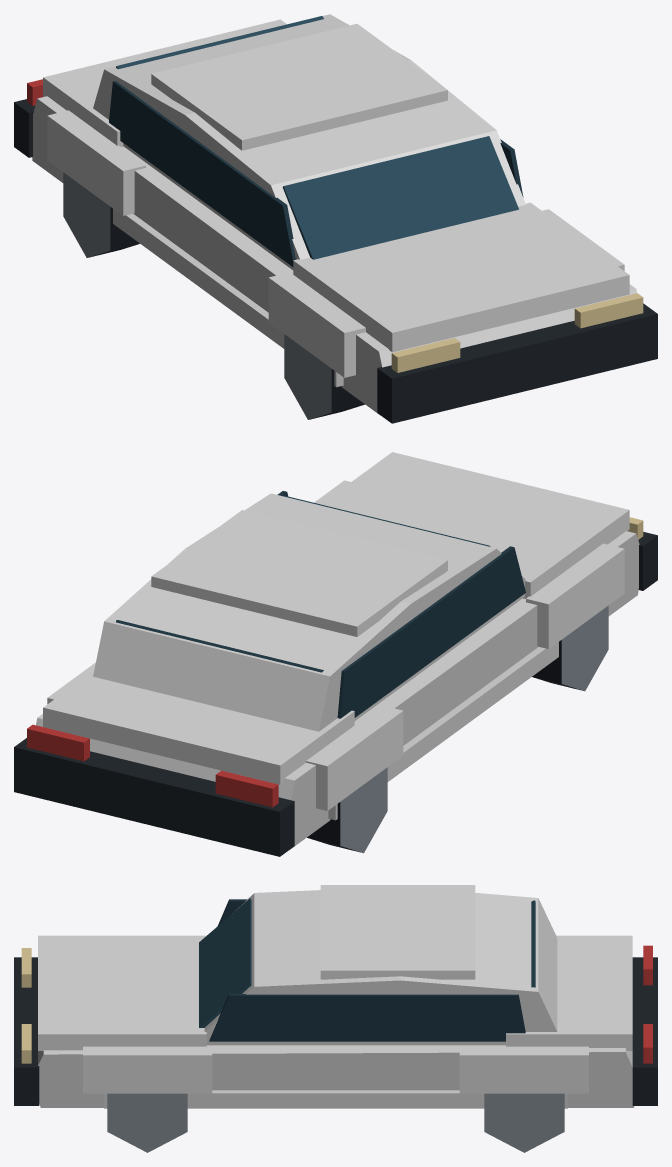
File: car_sedan_lod1.glb
3 views of the same model, one above another, from view 1: azimuth 30°, elevation 25°; view 2: azimuth 150°, elevation 25°; view 3: azimuth 270°, elevation 25° (orthographic). The views are drawn at different scales.
Parts seen in each view (by area): view 1: paint, trim; view 2: paint, trim; view 3: paint, trim.
Boxes of the visible parts, <box> form: paint: <box>32,14,636,415</box>; trim: <box>14,16,657,423</box>; paint: <box>36,452,639,849</box>; trim: <box>14,491,657,856</box>; paint: <box>38,885,634,1108</box>; trim: <box>14,898,657,1152</box>.
Size of the model in its own units: 1.96 by 1.32 by 4.58.
